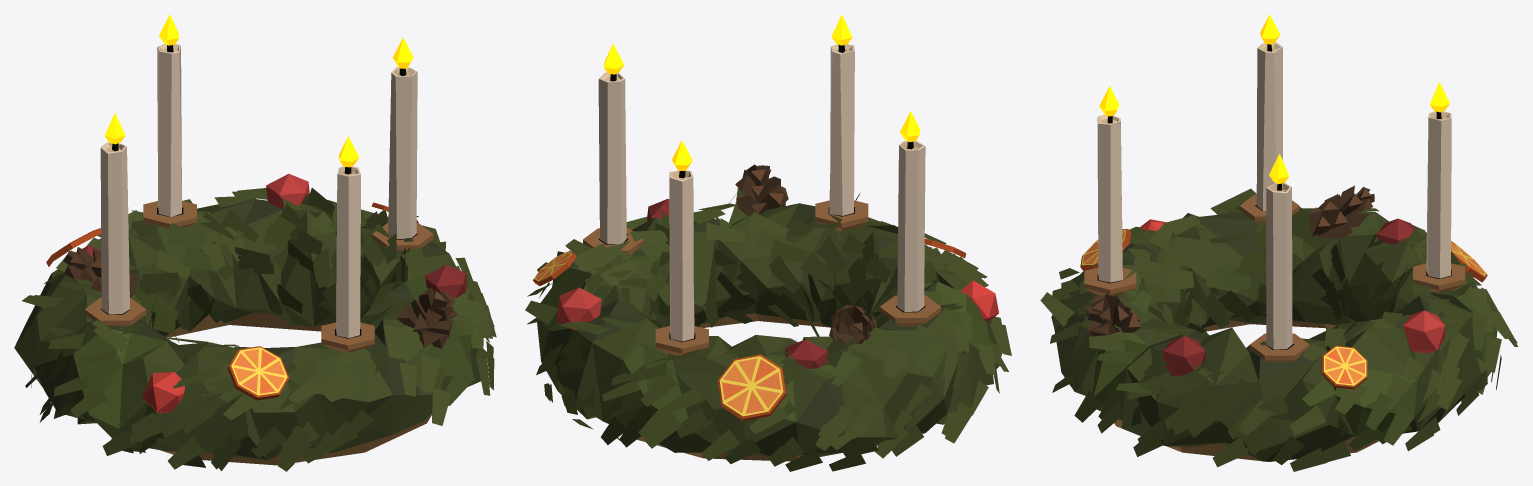
File: wreath-advent-a.glb
3 views of the same model, side by side, from view 1: azimuth 30°, elevation 25°; view 2: azimuth 150°, elevation 25°; view 3: azimuth 270°, elevation 25° (orthographic). The views are drawn at different scales.
Visible parts, largest first — view 1: wreath_advent_a; view 2: wreath_advent_a; view 3: wreath_advent_a.
Part boxes in pixels (x1=…): wreath_advent_a: x1=14, y1=14, x2=496, y2=471; wreath_advent_a: x1=525, y1=14, x2=1011, y2=471; wreath_advent_a: x1=1040, y1=14, x2=1518, y2=471.
Size of the model in its own units: 0.5754 by 0.3977 by 0.5667.
2 materials, 2 textured.
